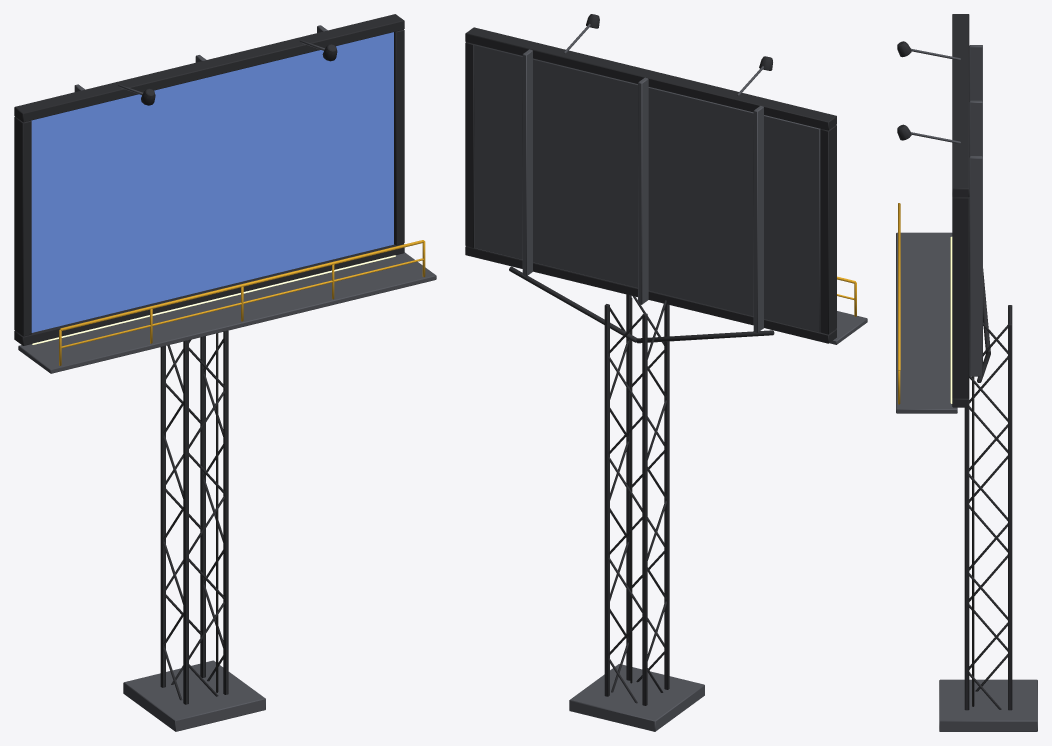
File: Ad_Billboard_Pole.glb
The picture shows the model from 3 angles, left to right: view 1: azimuth 30°, elevation 25°; view 2: azimuth 150°, elevation 25°; view 3: azimuth 270°, elevation 25°; orthographic projection. The views are drawn at different scales.
Parts seen in each view (by area): view 1: Ad_Billboard_Pole; view 2: Ad_Billboard_Pole; view 3: Ad_Billboard_Pole.
Part boxes in pixels (bbox=[...]): Ad_Billboard_Pole: bbox=[14, 14, 436, 731]; Ad_Billboard_Pole: bbox=[465, 14, 867, 731]; Ad_Billboard_Pole: bbox=[896, 14, 1037, 731].
Bounding box in the file's own units: 6.8 × 11.24 × 2.3.
